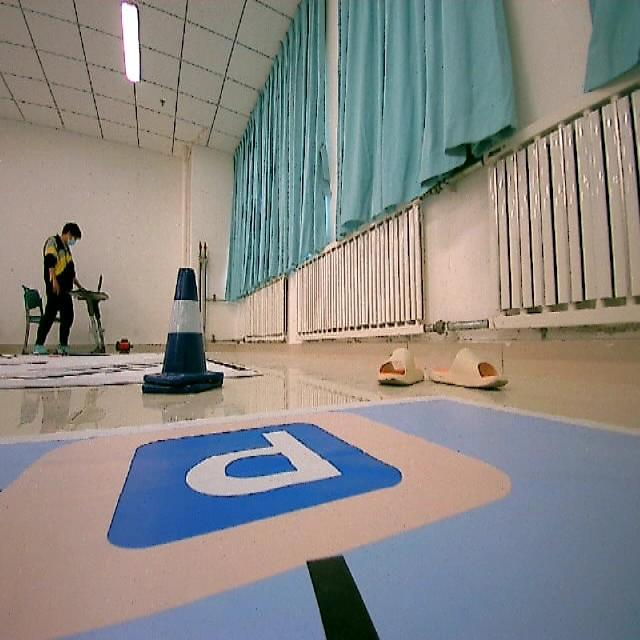obstacle: (135, 269, 229, 406)
